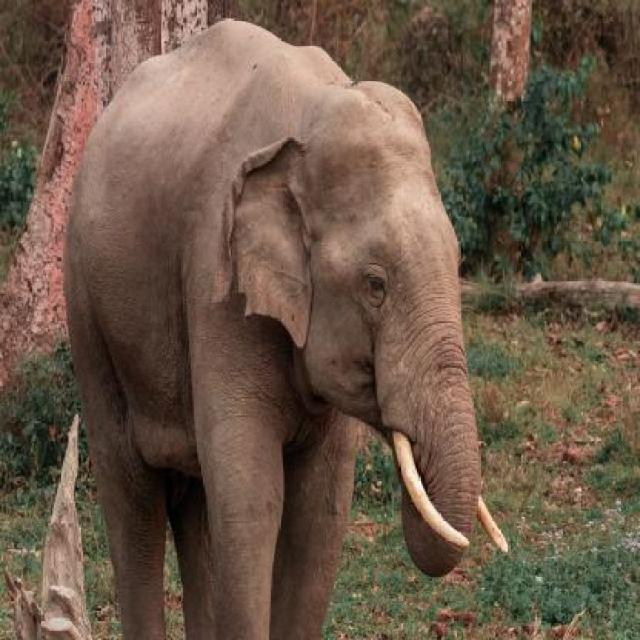Elephant: (66, 12, 512, 638)
